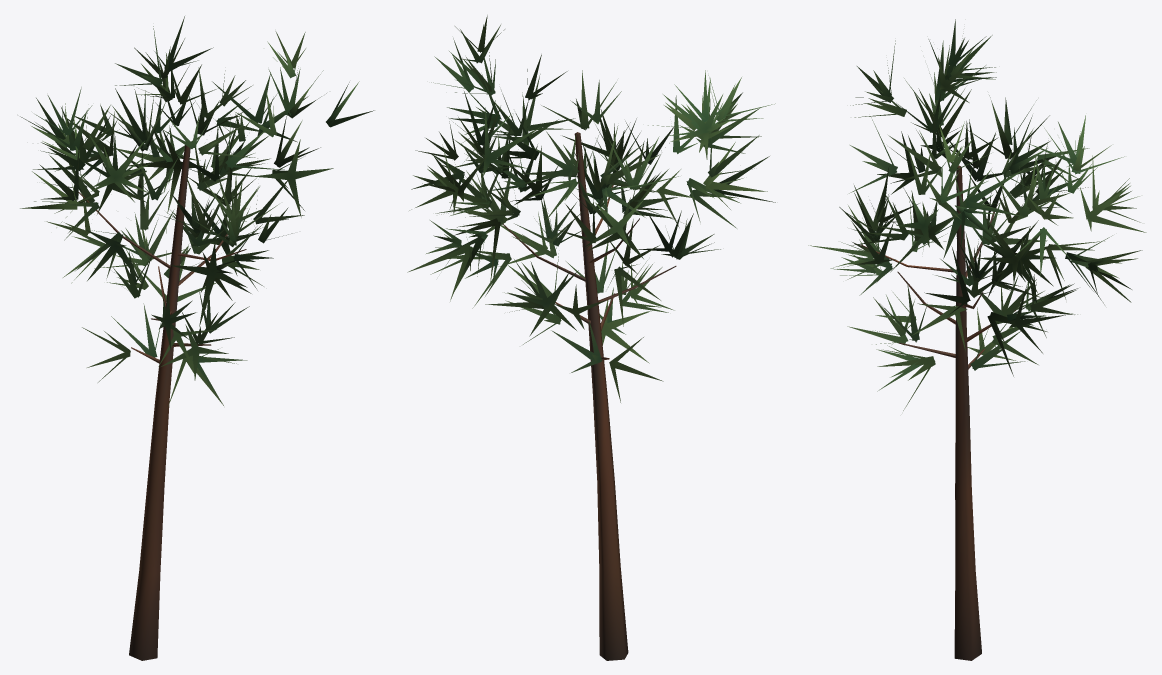
File: pine-a.lod2.glb
3 renders of one model, left to right at view 1: azimuth 30°, elevation 25°; view 2: azimuth 150°, elevation 25°; view 3: azimuth 270°, elevation 25°, orthographic.
Bounding box in the file's own units: 8.22 × 14.12 × 7.28.
